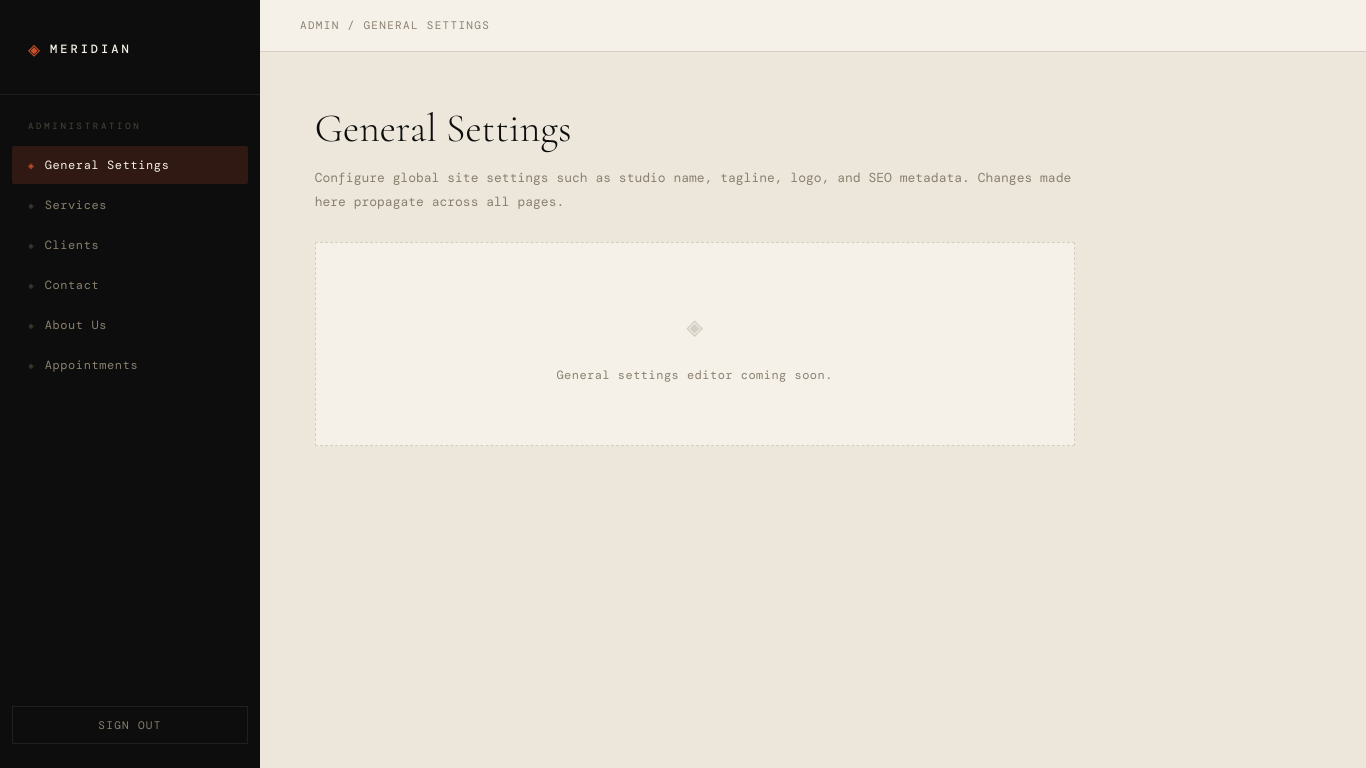
AdminPage — Appointments panel › shows loading indicator in Availability sub-panel
The image size is (1366, 768).
Click the button "◈ Appointments" at (130, 365), box [12,346,248,384]
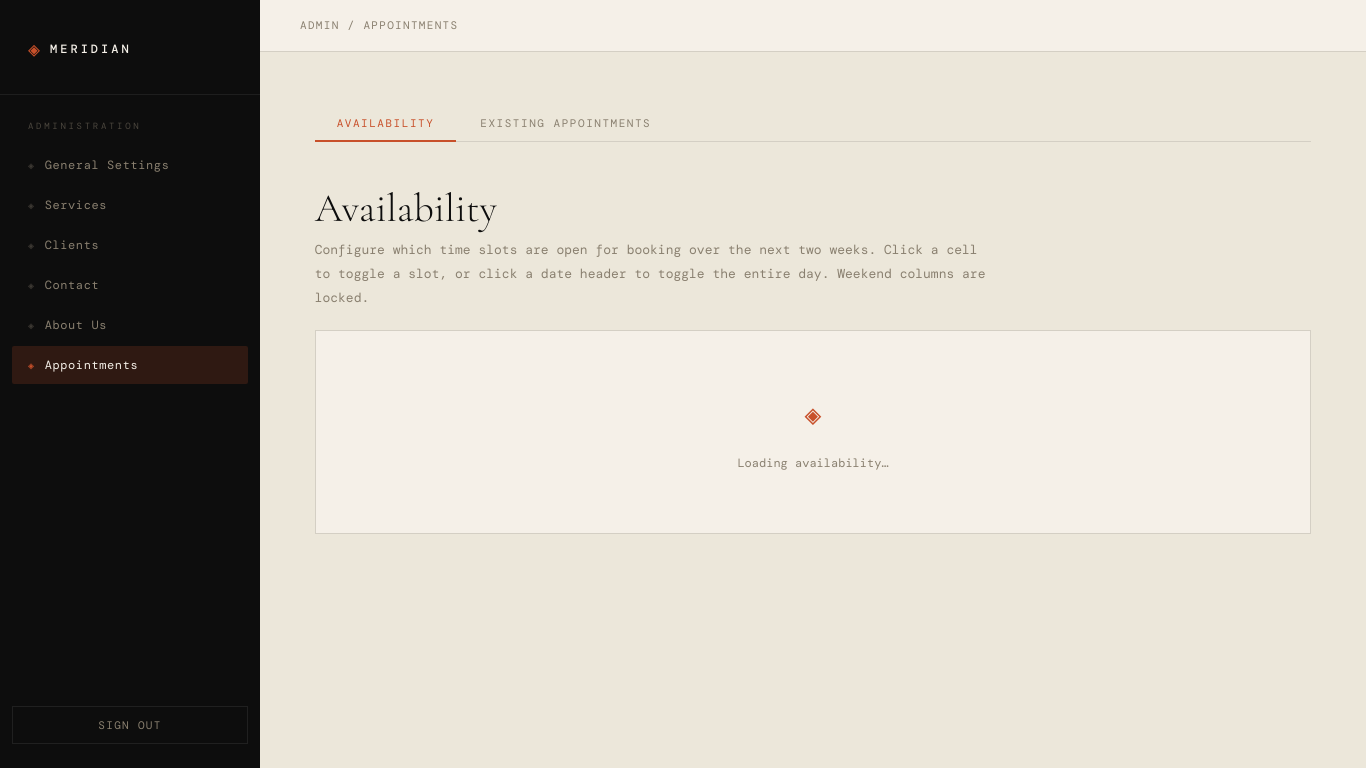
Check: the text "Loading availability…" is shown, box [737,453,889,473]
